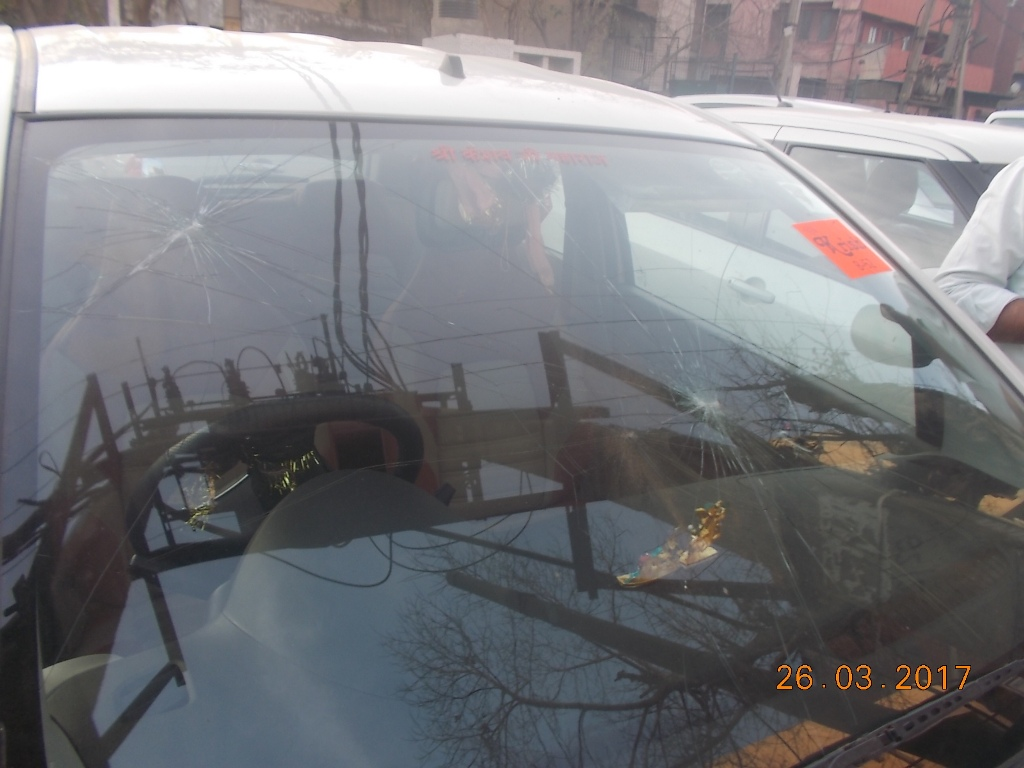Shatter: (120, 177, 267, 293), (674, 358, 792, 470)
